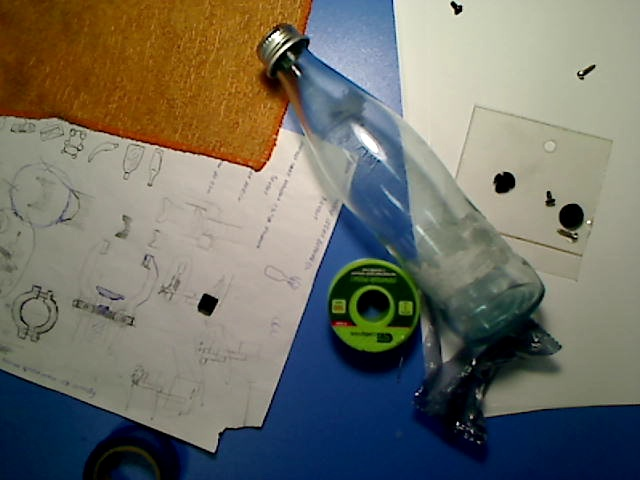bottle: (255, 22, 548, 345)
